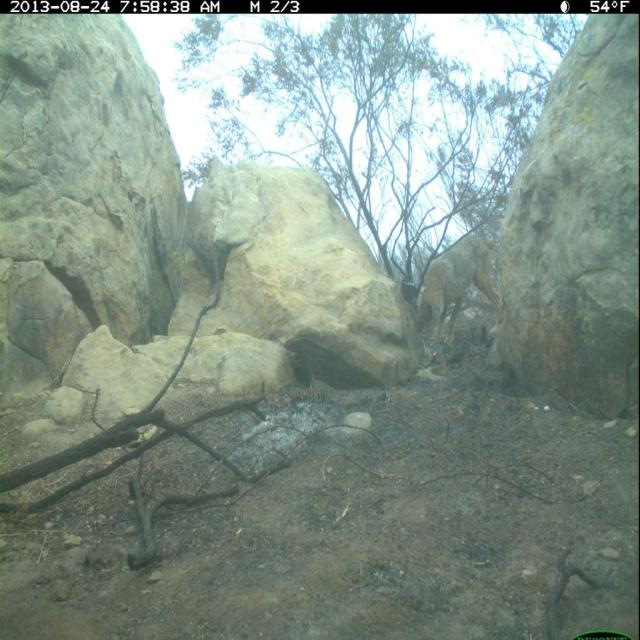coyote: (411, 231, 504, 349)
